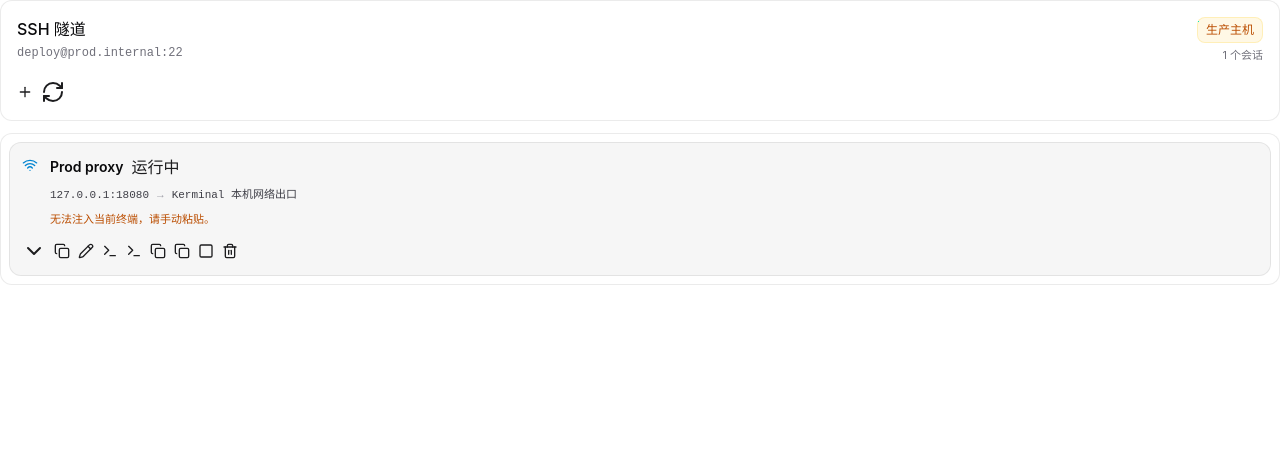
PortForwardToolContent › filters sessions to the selected SSH host
The image size is (1280, 459).
Expected: the text "Prod proxy" is shown, [50,156,124,176]
Expected: the text "脚本只写当前用户 home" is not shown
What coordinates should you click on to do the following:
click the button named "展开 Prod proxy 详情"
I would click on:
 (34, 251)
Its box is [22,239,46,263].
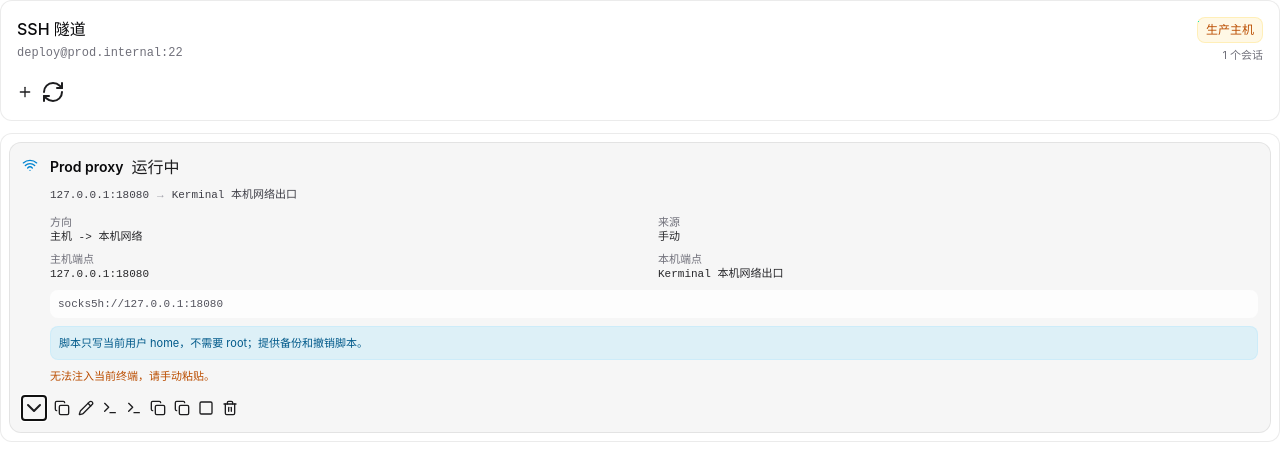
Expected: the button named "复制配置脚本" is shown, [150,396,166,420]
Now the text "脚本只写当前用户 home，不需要 root；提供备份和撤销脚本。" is shown, box [50,326,1258,360]
